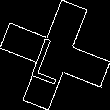L_N: (31, 26, 79, 84)
